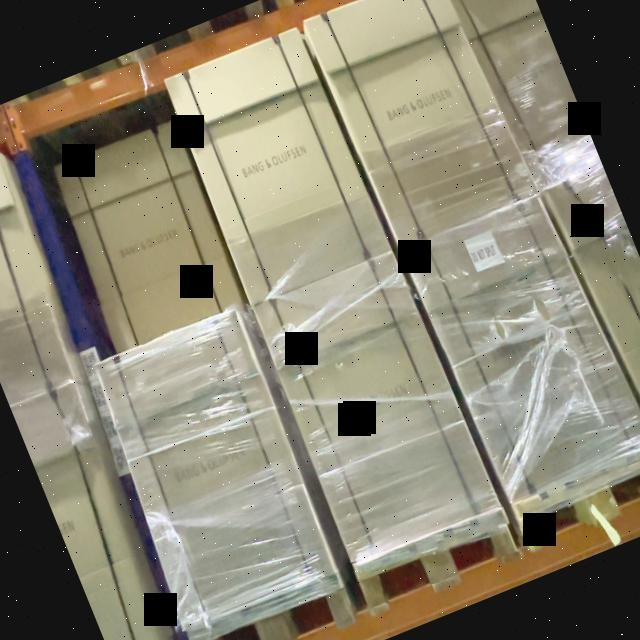box: (96, 310, 340, 628), (253, 251, 501, 563), (402, 195, 640, 501), (164, 27, 392, 306), (302, 0, 535, 251), (56, 118, 239, 352)
